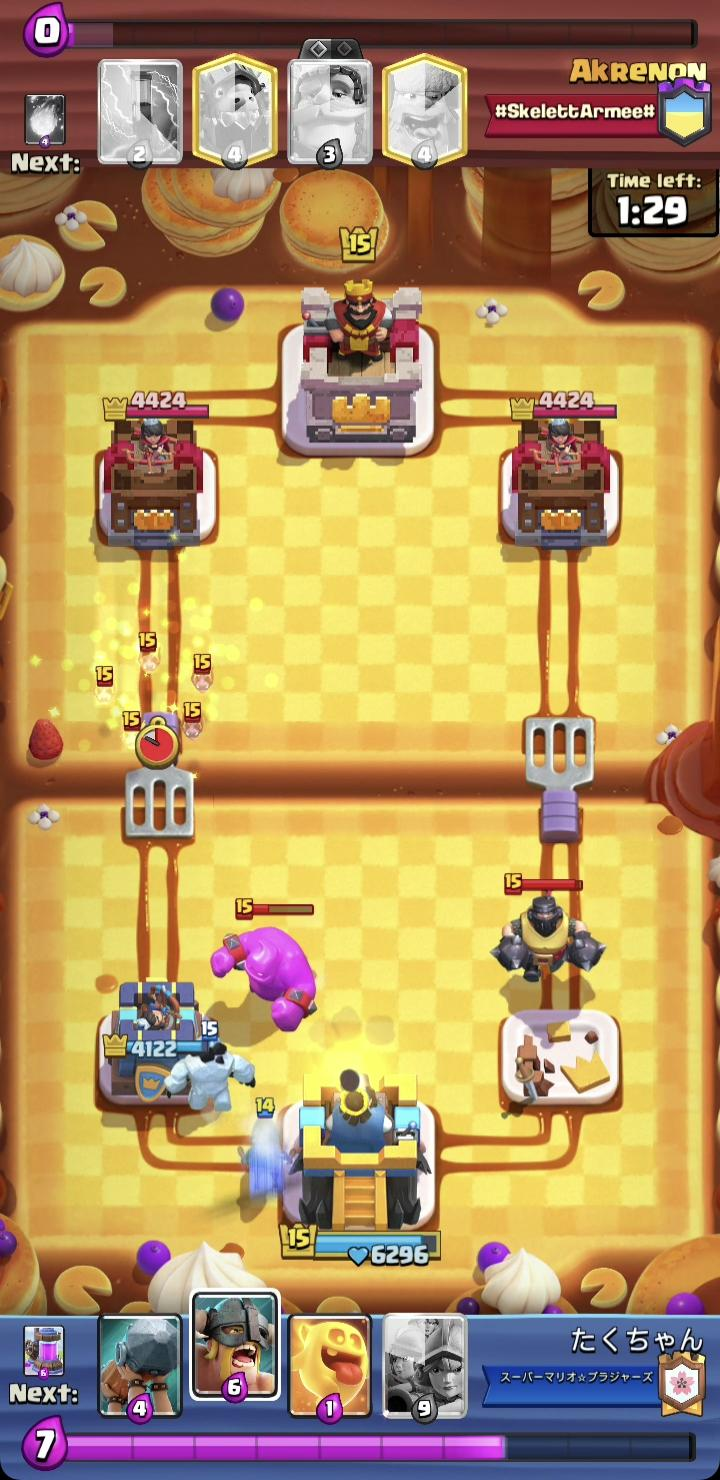ally_bandit: (239, 1095, 294, 1183)
ally_ice_golem: (166, 1021, 263, 1119)
enemy_bat: (177, 700, 207, 744), (136, 631, 162, 679), (190, 652, 216, 696), (119, 709, 145, 752), (92, 663, 116, 709)
enemy_elixirgolem: (209, 898, 319, 1034)
enemy_mega_knight: (491, 870, 606, 990)
